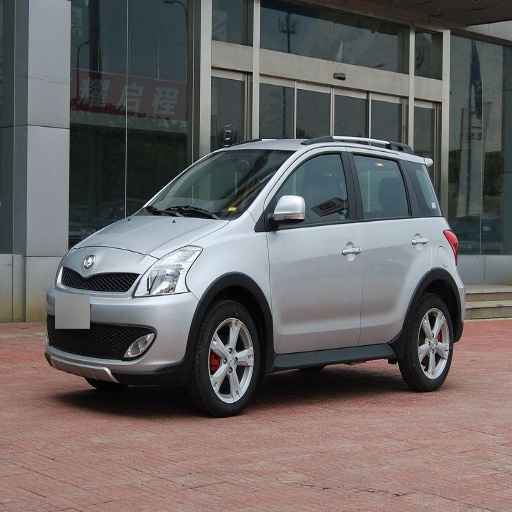back_left_door: (347, 148, 433, 342)
front_bumper: (44, 247, 203, 382)
front_glass: (143, 149, 286, 219)
front_left_door: (266, 148, 362, 352)
